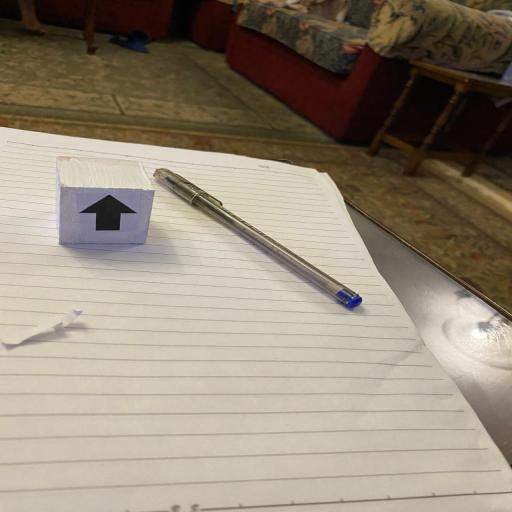Up: (54, 156, 156, 247)
